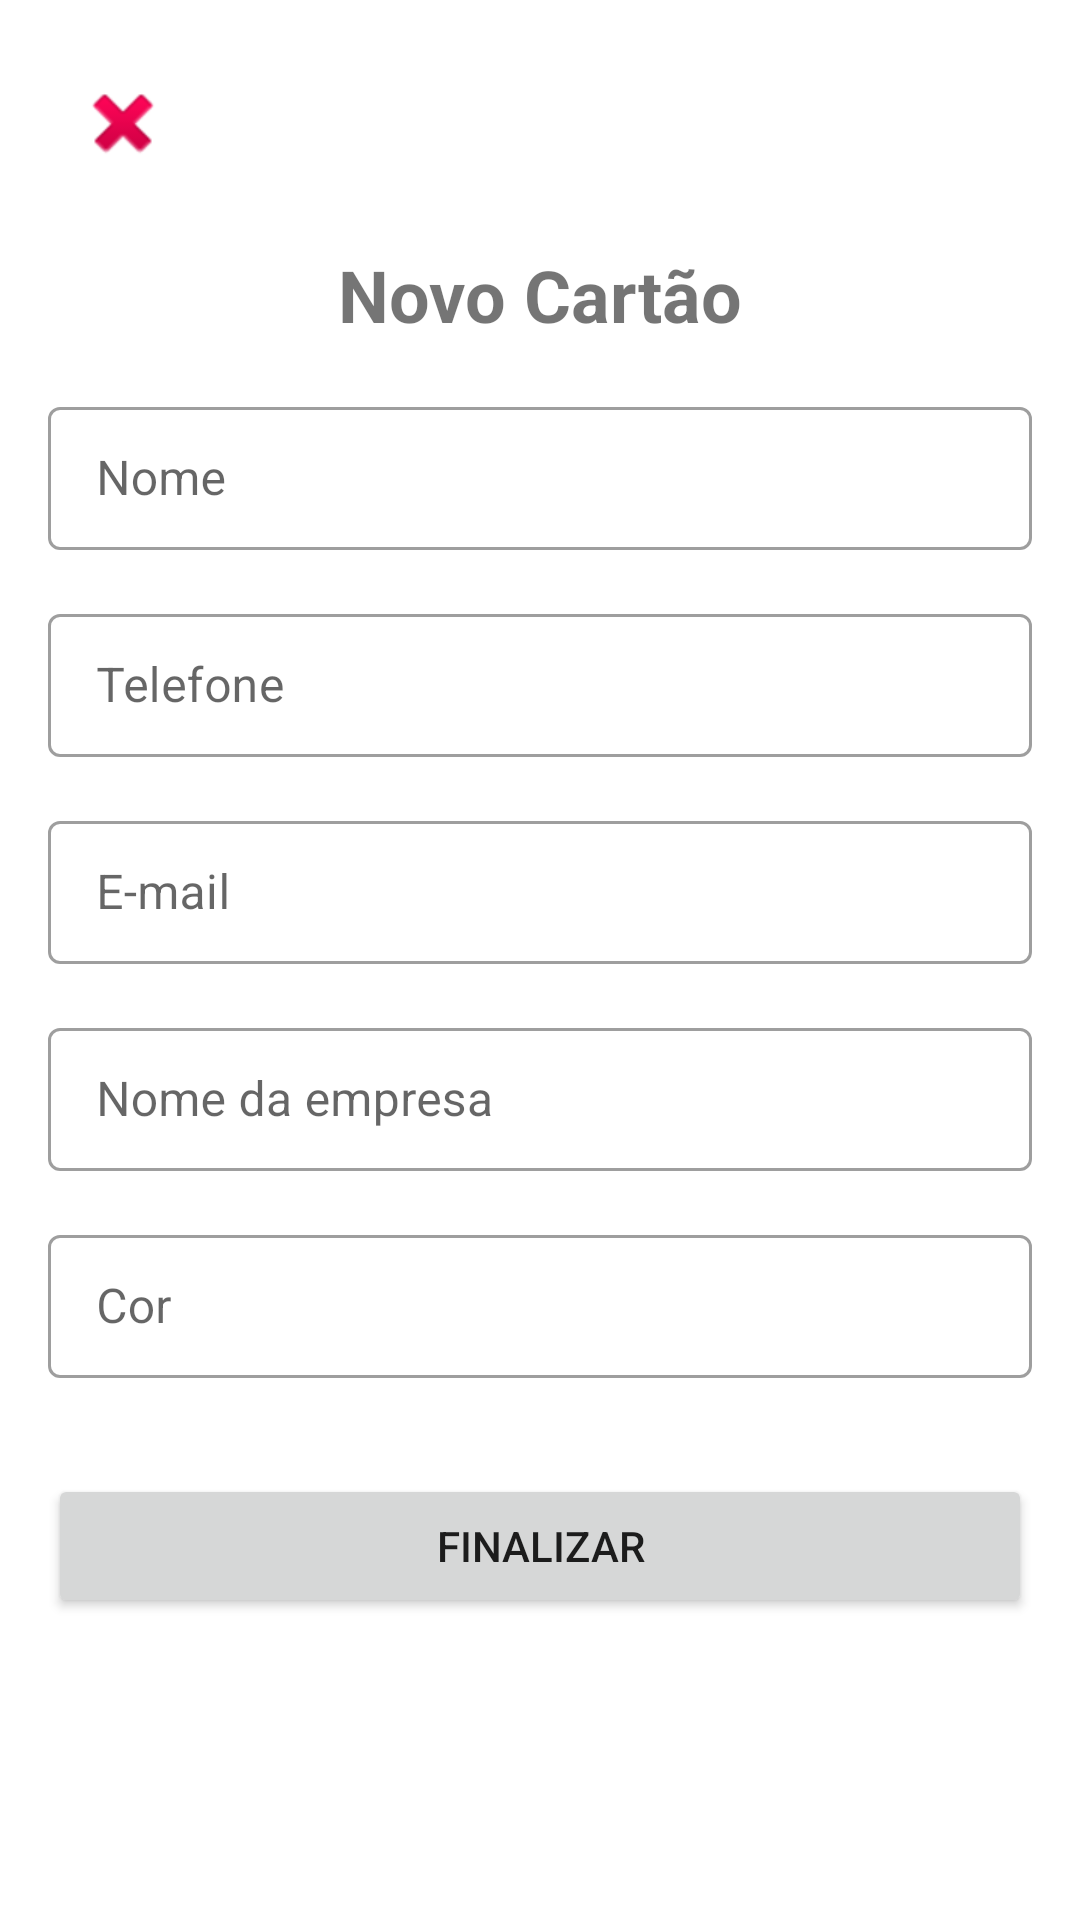

Point at icon controls on the screen. Image size 1080px x 1920px, points as point (x, y).
Botão de sair: point (123, 123)
